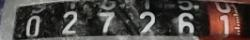digits: (176, 0, 196, 39), (138, 10, 155, 33), (61, 10, 77, 34), (98, 11, 114, 32), (26, 15, 40, 36), (219, 14, 228, 35)
